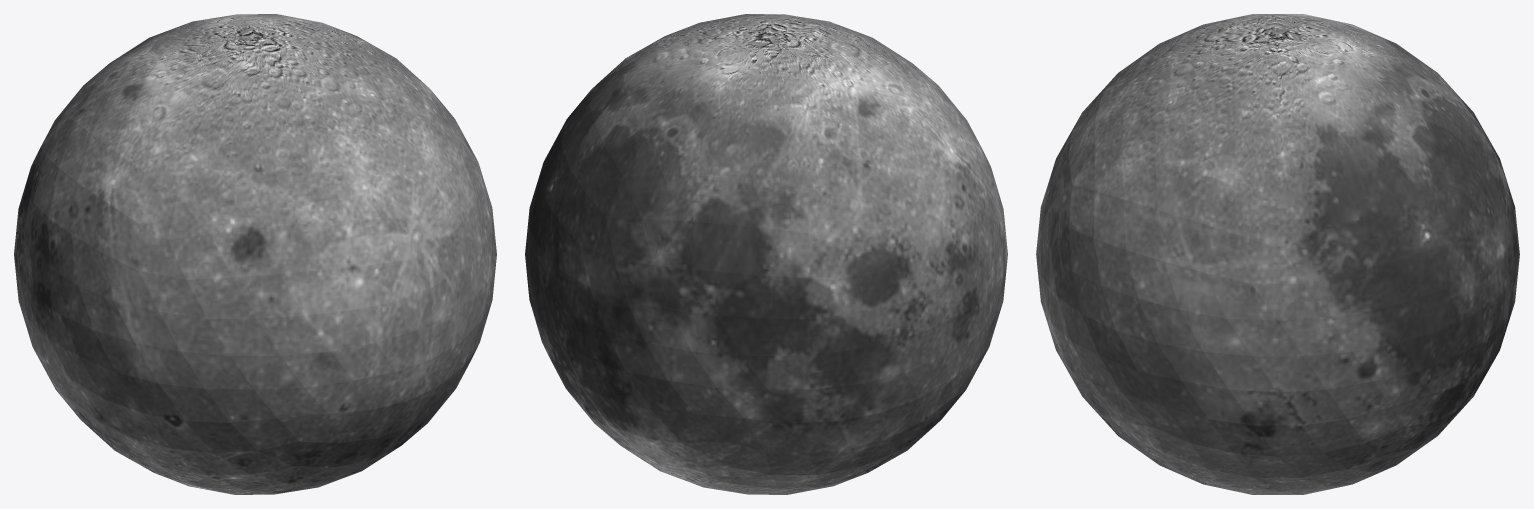
Rendered from Moon.FBX.
The picture shows the model from 3 angles, left to right: view 1: azimuth 30°, elevation 25°; view 2: azimuth 150°, elevation 25°; view 3: azimuth 270°, elevation 25°; orthographic projection.
Parts seen in each view (by area): view 1: Moonish; view 2: Moonish; view 3: Moonish.
Boxes of the visible parts, x1,y1,x2,y2 form: Moonish: [14, 14, 496, 494]; Moonish: [525, 14, 1007, 494]; Moonish: [1036, 14, 1519, 494].
Size of the model in its own units: 83.54 by 84 by 84.
